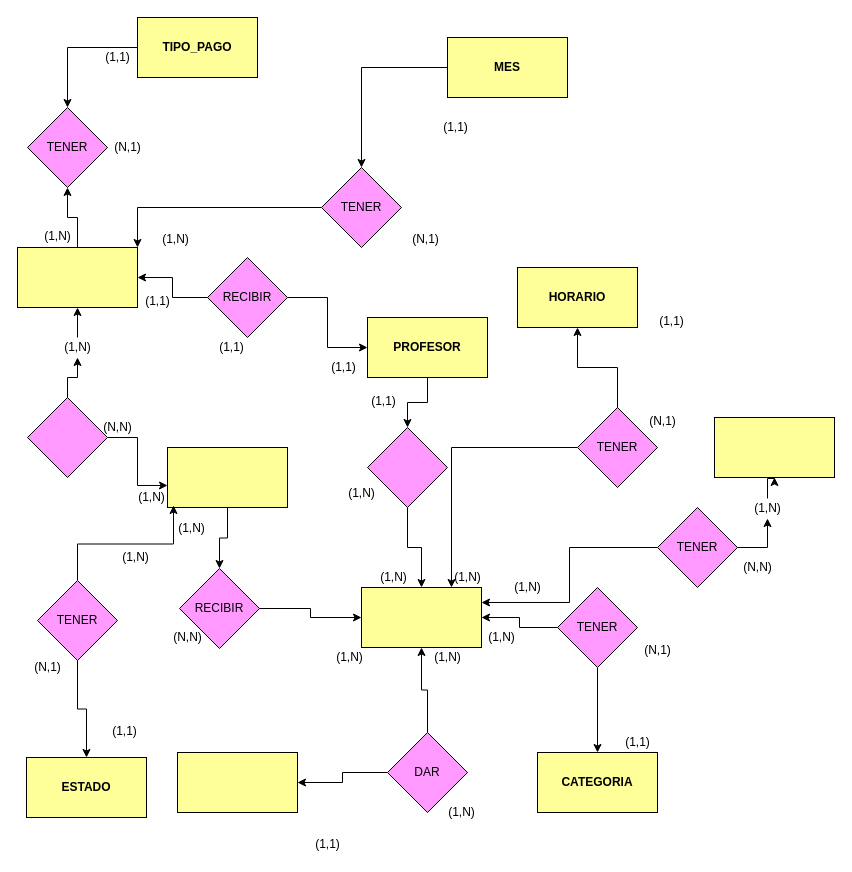
The diagram is 852 pixels wide and 872 high, and some of its shapes have lost their labels. The centre of each missing label's shape, as x and y in pixels:
CENTRO: (x=237, y=782)
CURSO: (x=421, y=617)
ESTUDIANTE: (x=227, y=477)
HACER: (x=67, y=437)
IMPARTIR: (x=407, y=467)
PAGO: (x=77, y=277)
TEMA: (x=774, y=447)
